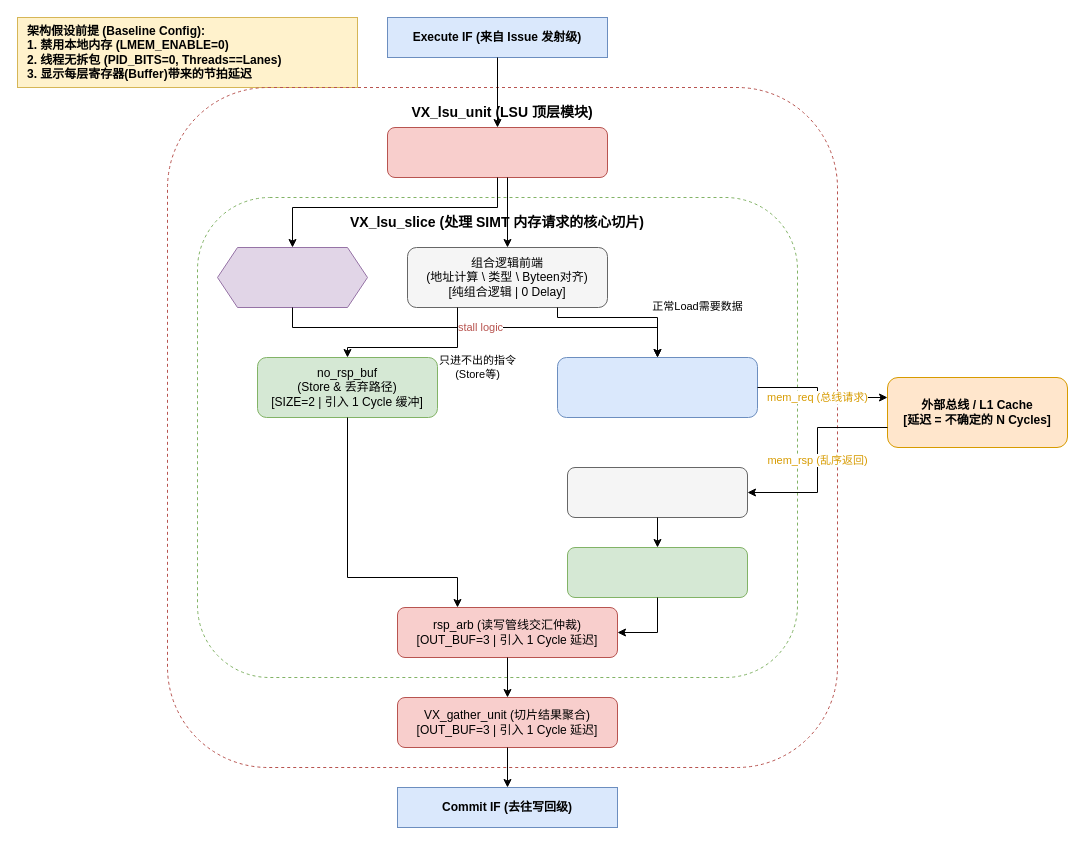
Image size: 1085x845. Some labels were removed from this diagram. The centre of each missing label's shape, as x and y in pixels:
"Fence Lock (FSM 屏障拦截)" goes at pixel 292 277.
"Read返回截取与符号扩展 [纯组合逻辑 | 0 Delay]" goes at pixel 657 492.
"rsp_buf (Load 返回专用) [SIZE=2 | 引入 1 Cycle 缓冲]" goes at pixel 657 572.
"VX_dispatch_unit 分发器 [OUT_BUF=1 | 引入 1 Cycle 延迟]" goes at pixel 497 152.
"VX_mem_scheduler (访存请求合并与物理队列调度)" goes at pixel 657 387.
